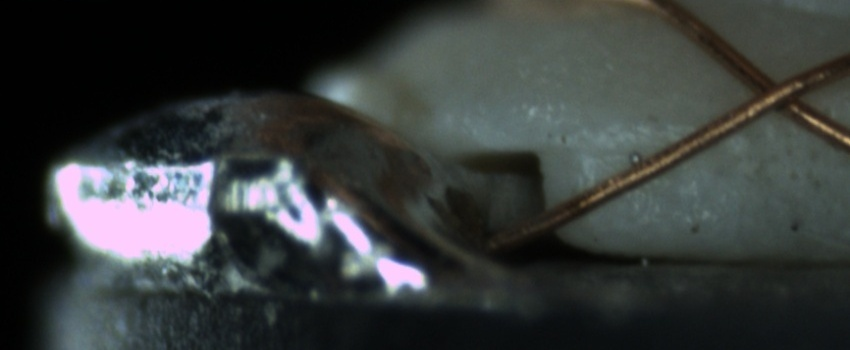CL: (731, 55, 825, 126)
DL: (569, 121, 695, 180)
